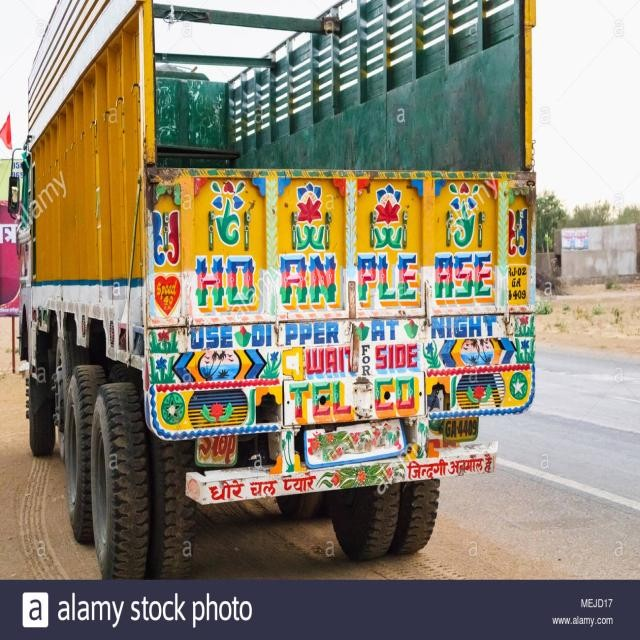truck: (27, 10, 533, 572)
